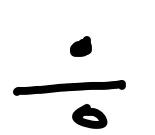div: (13, 35, 126, 129)
